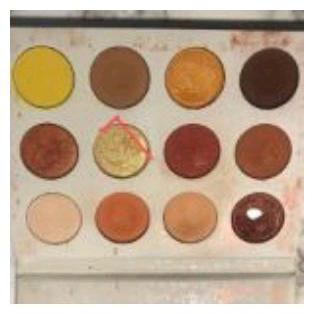ImgView: (1, 1, 313, 313)
